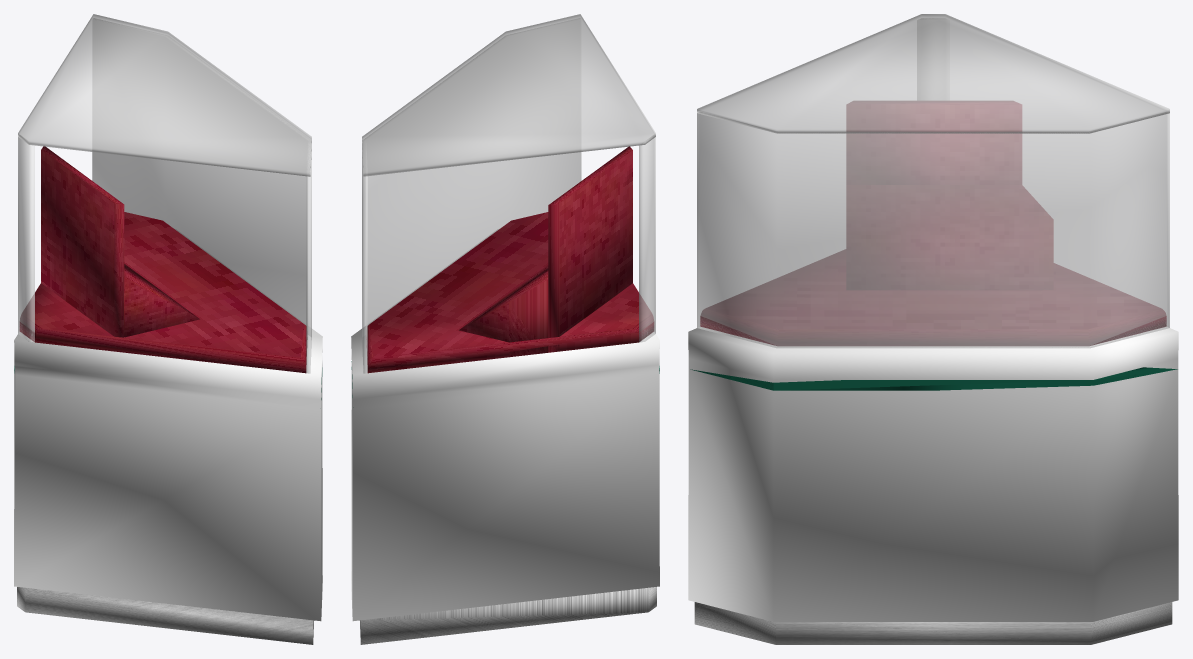
The model's file is ABC-79.obj.
3 views of the same model, side by side, from view 1: azimuth 30°, elevation 25°; view 2: azimuth 150°, elevation 25°; view 3: azimuth 270°, elevation 25° (orthographic). The views are drawn at different scales.
Bounding box in the file's own units: 5 × 9.58 × 8.27.
